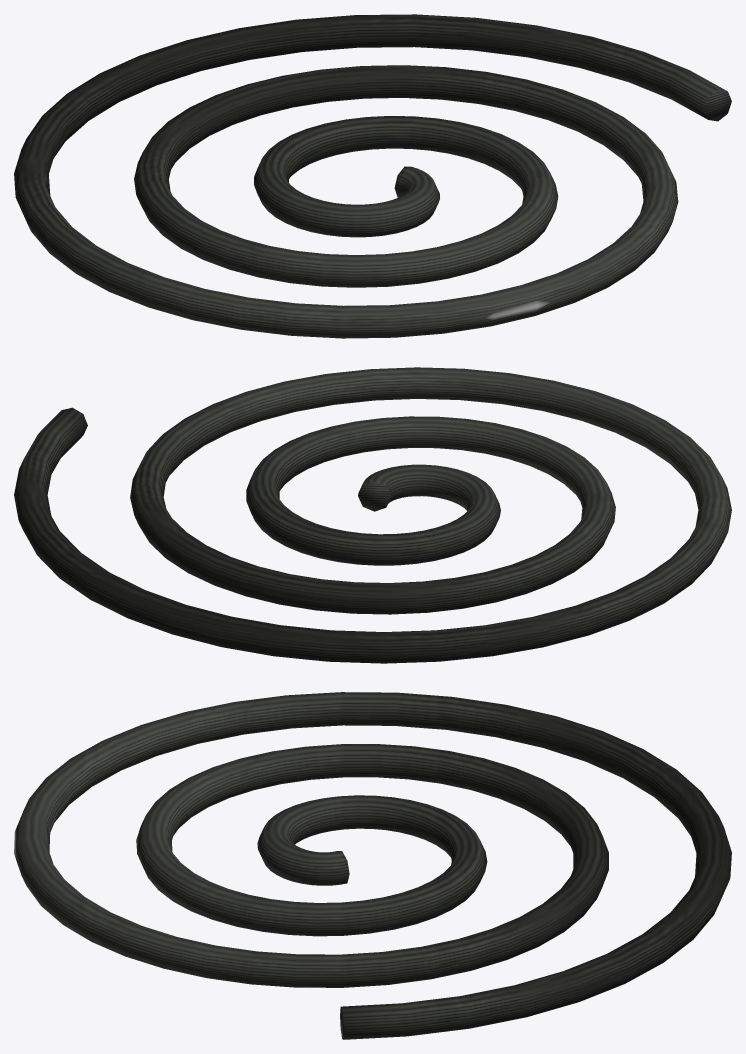
Rendered from Fuse.FBX.
3 renders of one model, top to bottom at view 1: azimuth 30°, elevation 25°; view 2: azimuth 150°, elevation 25°; view 3: azimuth 270°, elevation 25°, orthographic. The views are drawn at different scales.
Visible parts, largest first — view 1: Helix002; view 2: Helix002; view 3: Helix002.
Boxes of the visible parts, x1,y1,x2,y2 form: Helix002: (14, 14, 731, 338); Helix002: (14, 367, 731, 663); Helix002: (14, 692, 731, 1039).
Bounding box in the file's own units: 38.61 × 1.76 × 35.57.
1 material, 1 textured.
